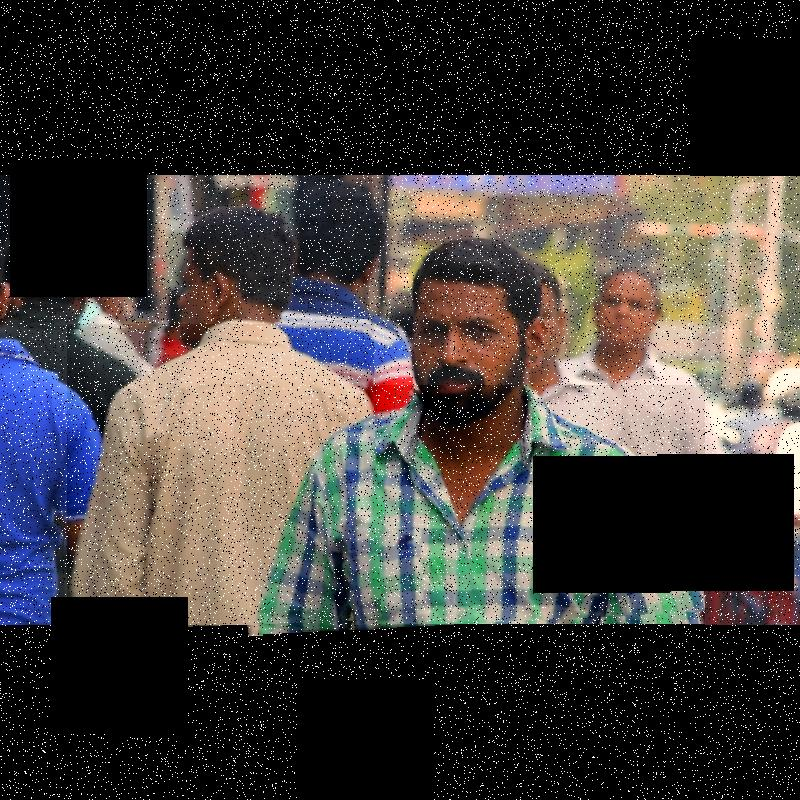shirt: (247, 385, 705, 635), (67, 325, 374, 630)
